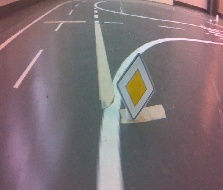priority road sign: (114, 52, 157, 121)
